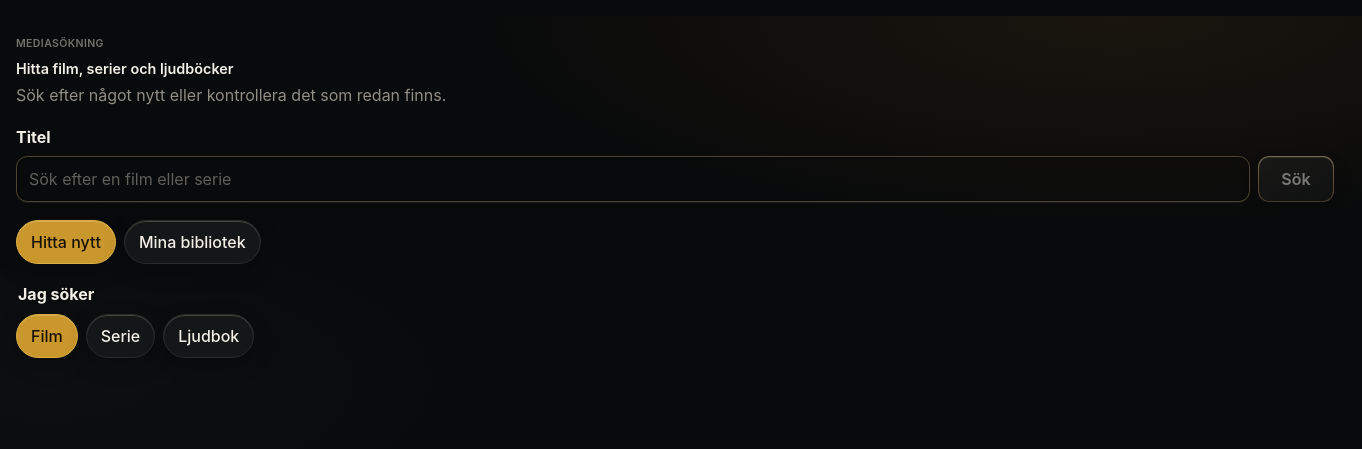
Scenario: provider timeout is shown with a Swedish safe message
The width and height of the screenshot is (1362, 449).
Type "Alien" into the search field. click: [633, 179]
box: [16, 156, 1250, 202]
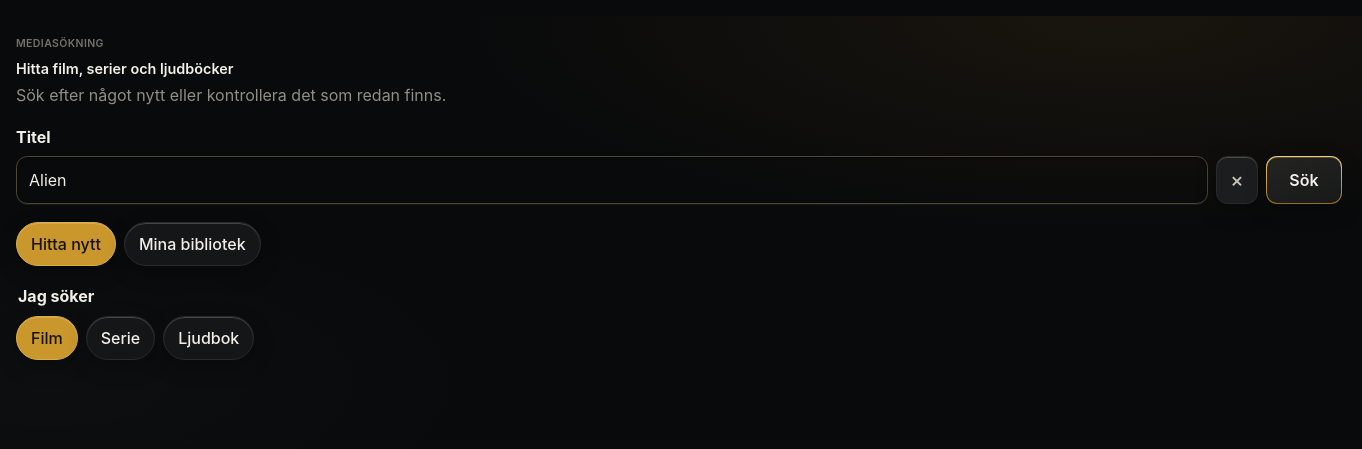
Click the button "Sök". click: [1304, 180]
box: [1266, 156, 1342, 204]
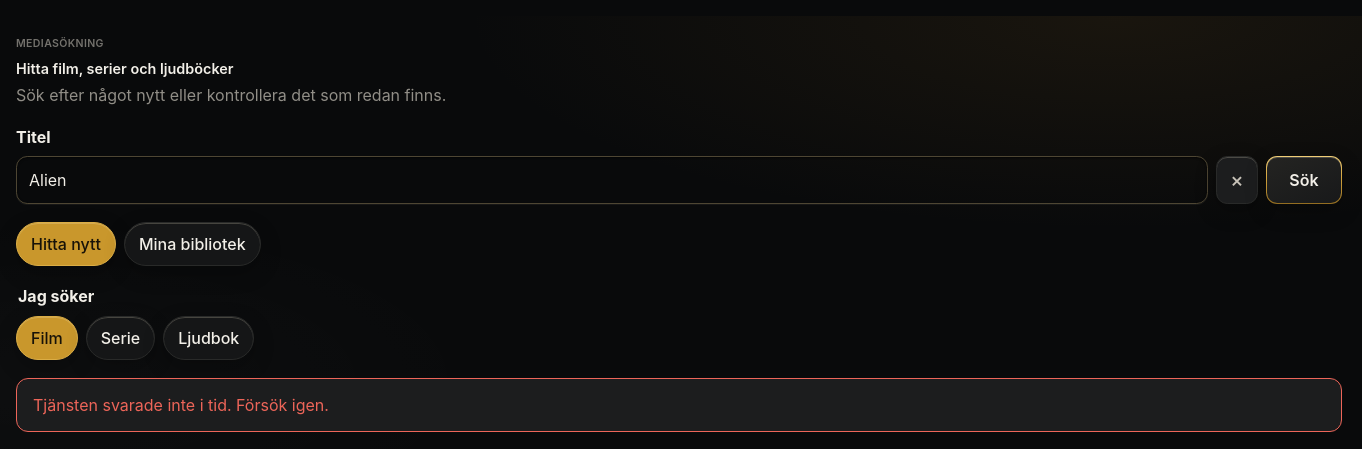
Result: the message reads "Tjänsten svarade inte i tid. Försök igen." at [33, 395, 329, 415]
